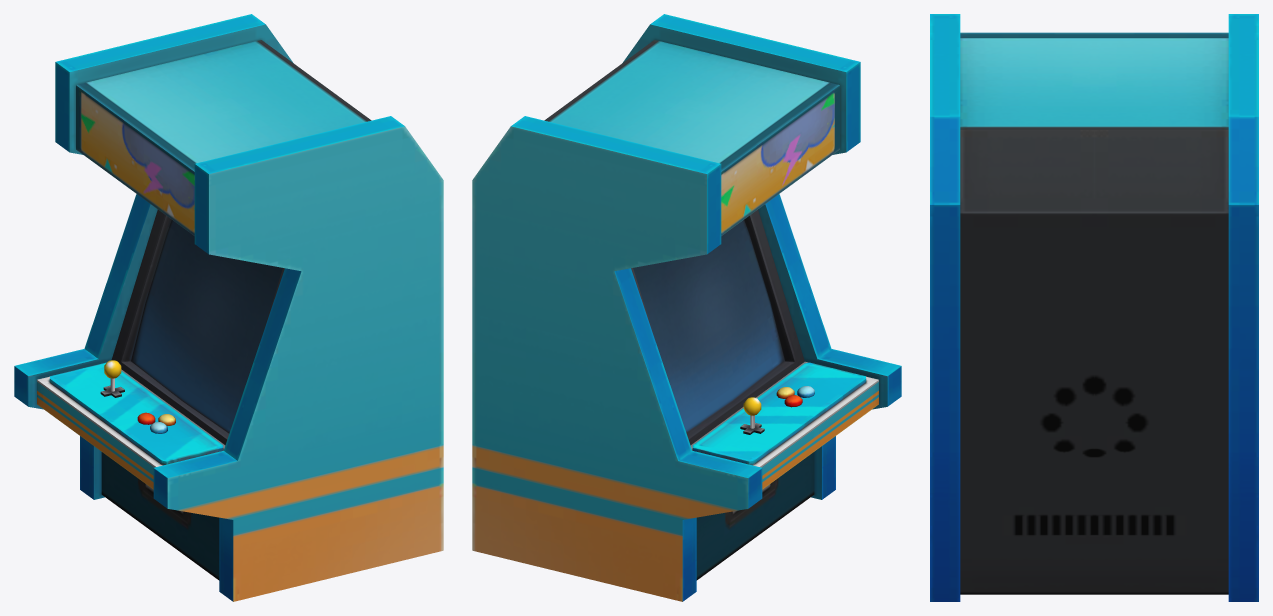
File: my_gamecenter_01_p_gamemachine_02.glb
3 renders of one model, left to right at view 1: azimuth 30°, elevation 25°; view 2: azimuth 150°, elevation 25°; view 3: azimuth 270°, elevation 25°, orthographic. The views are drawn at different scales.
Visible parts, largest first — view 1: my_gamecenter_01_p_gamemachine_02; view 2: my_gamecenter_01_p_gamemachine_02; view 3: my_gamecenter_01_p_gamemachine_02.
Boxes of the visible parts, x1,y1,x2,y2 form: my_gamecenter_01_p_gamemachine_02: [14, 14, 443, 601]; my_gamecenter_01_p_gamemachine_02: [472, 14, 901, 601]; my_gamecenter_01_p_gamemachine_02: [930, 14, 1258, 601].
Size of the model in its own units: 0.00977 by 0.0147 by 0.00941.
Materials: 1 (1 with a texture image).
